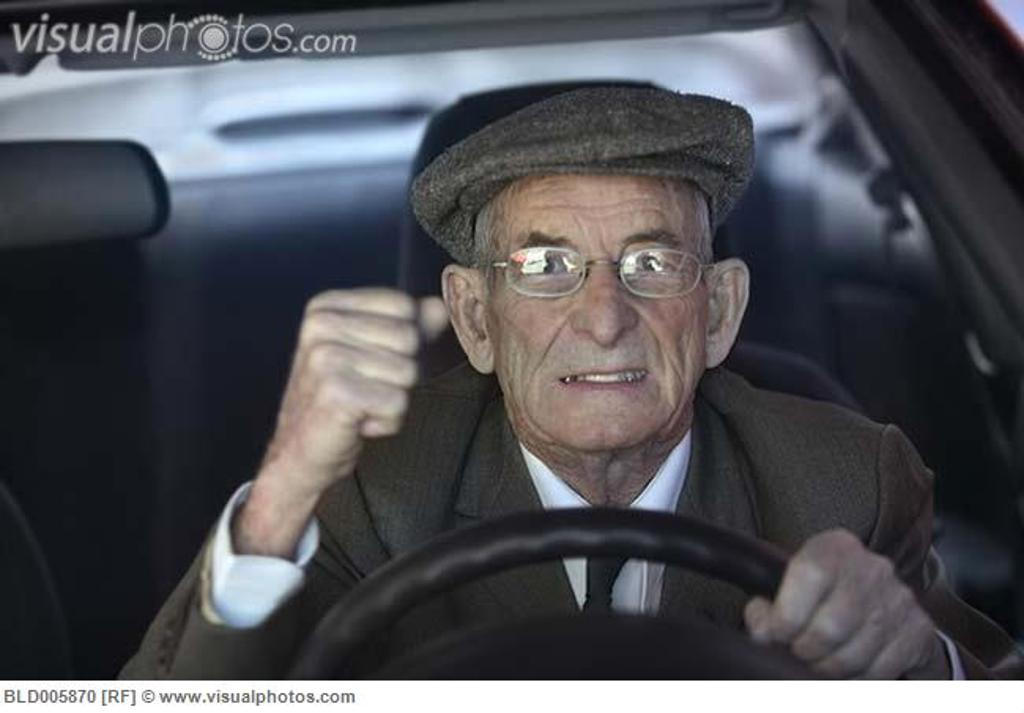face: (488, 156, 706, 442)
